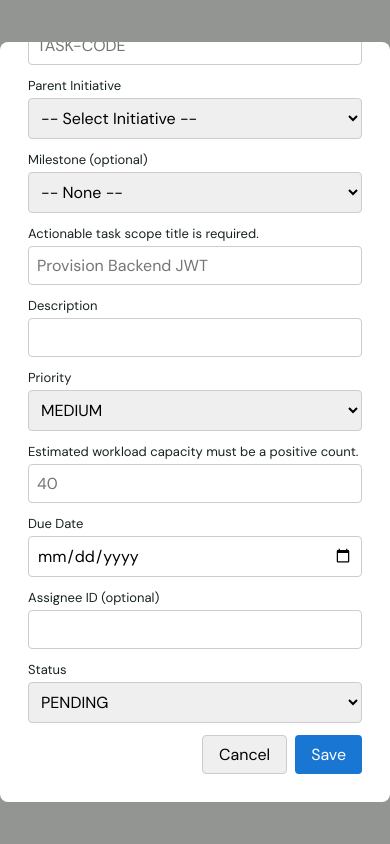
T21 - ProjectTaskForm: required field validation
(page scrolled)
// Ensure initiatives are loaded first to avoid race conditions
Click the button with aria-label "finalize" at {"x": 329, "y": 754}, box [295,735,362,774]
(page scrolled)
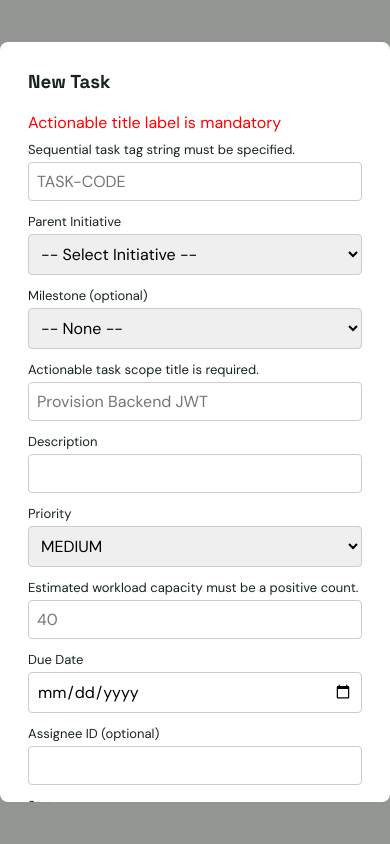
expect the text "Actionable title label is mandatory" is shown: met, box [28,112,281,133]
